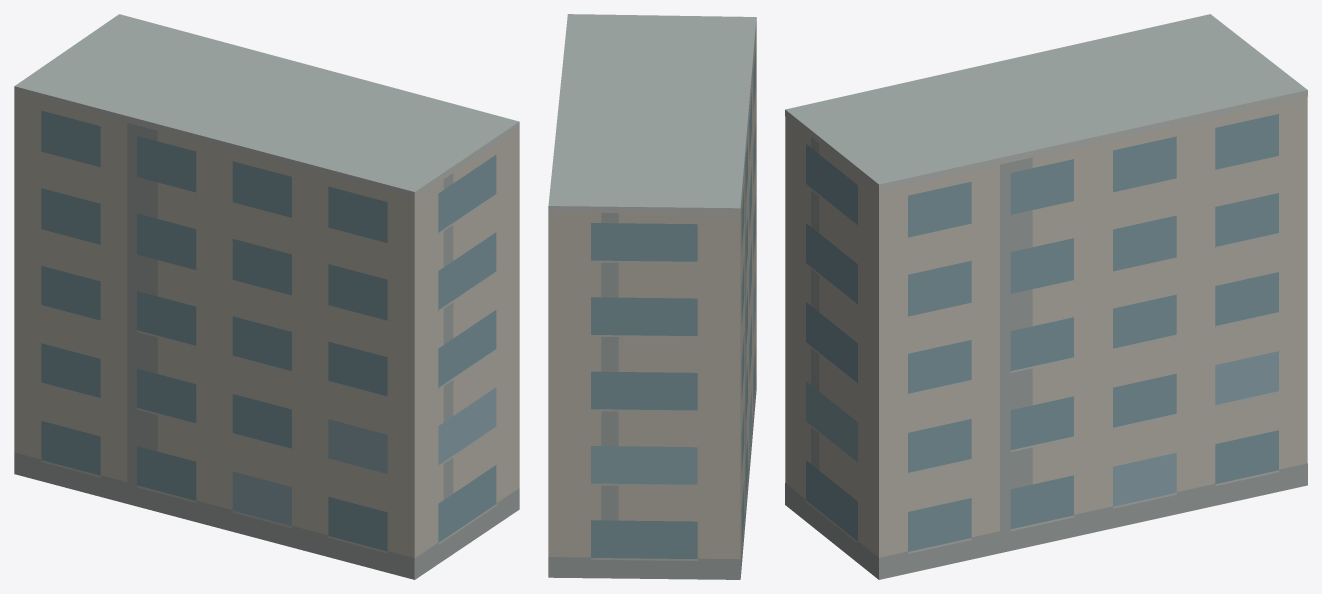
Rendered from survey-upis-32884341.glb.
3 renders of one model, left to right at view 1: azimuth 30°, elevation 25°; view 2: azimuth 150°, elevation 25°; view 3: azimuth 270°, elevation 25°, orthographic. The views are drawn at different scales.
Visible parts, largest first — view 1: survey-upis-32884341.tmp; view 2: survey-upis-32884341.tmp; view 3: survey-upis-32884341.tmp.
Boxes of the visible parts, x1,y1,x2,y2 form: survey-upis-32884341.tmp: [14, 14, 519, 579]; survey-upis-32884341.tmp: [548, 14, 756, 579]; survey-upis-32884341.tmp: [785, 14, 1307, 579].
Bounding box in the file's own units: 13.24 × 14.3 × 17.14.
